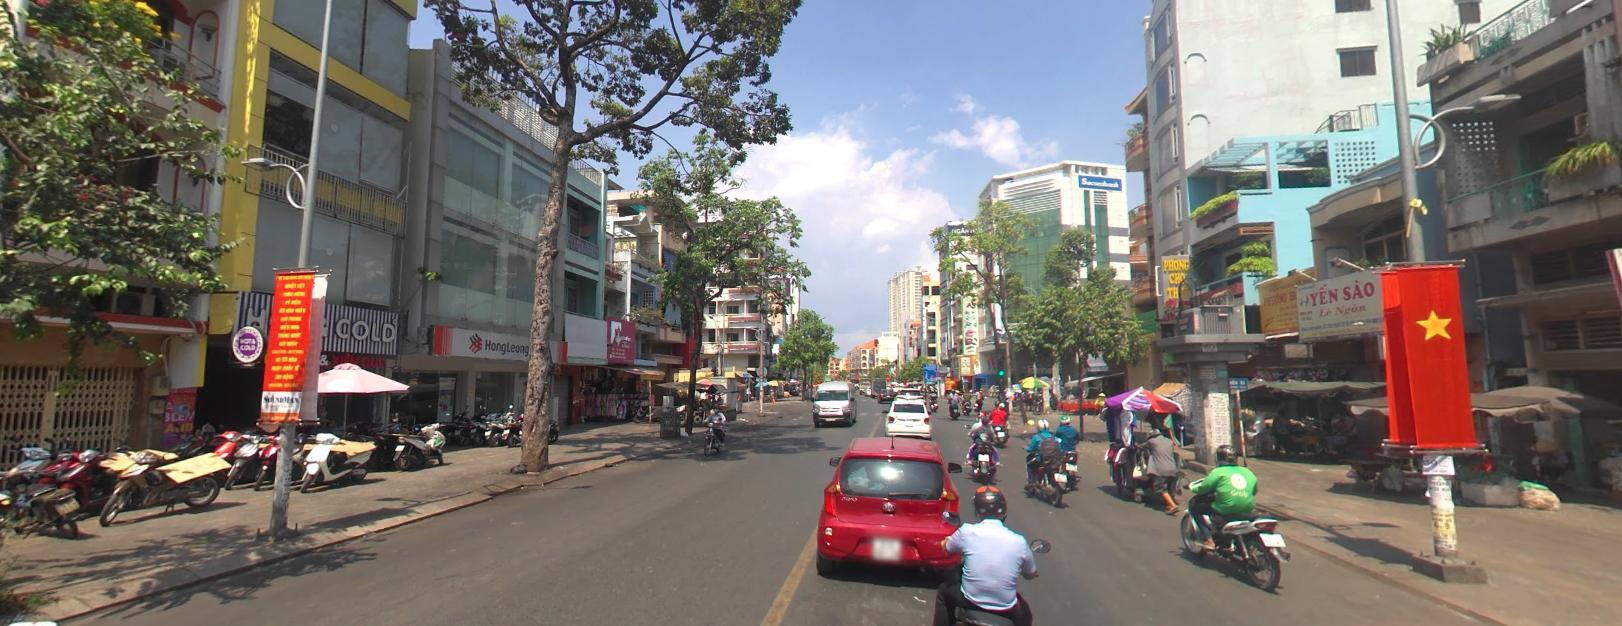Cam dung va do: (934, 369, 940, 375)
